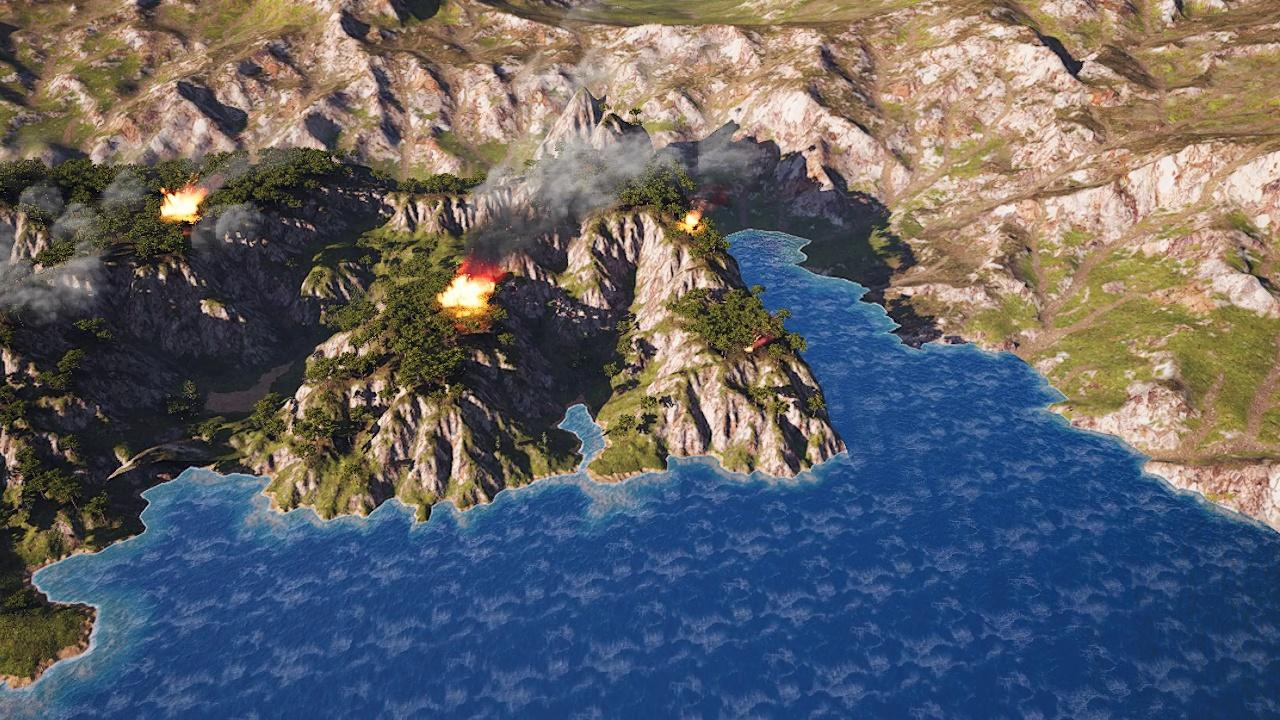fire: (437, 270, 494, 311), (160, 189, 202, 223), (682, 213, 713, 238)
smoke: (467, 118, 764, 257), (0, 177, 145, 324), (191, 197, 270, 252)
